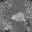people: (11, 12, 25, 22)
